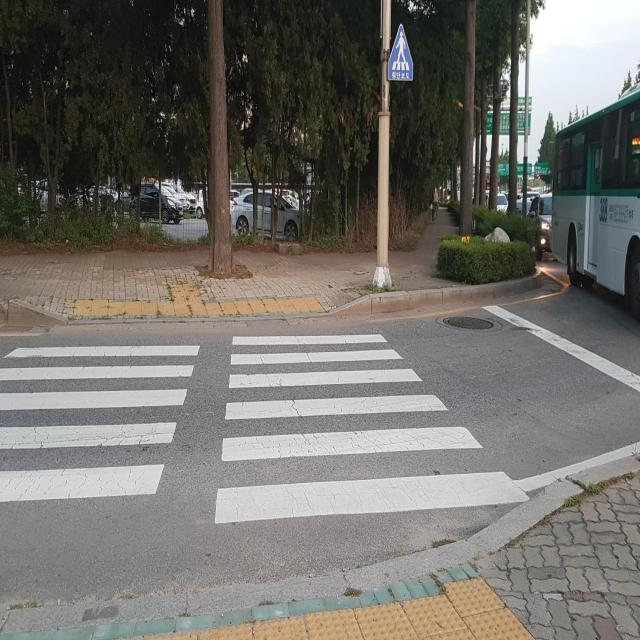횡단보도: (0, 329, 534, 530)
